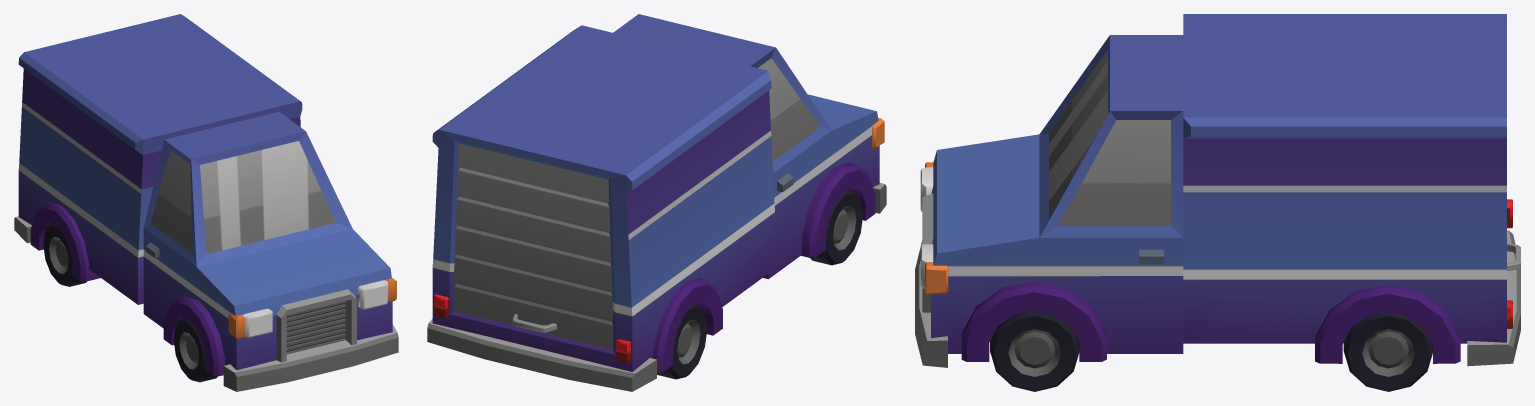
The model's file is PostCar_4.fbx.
The picture shows the model from 3 angles, left to right: view 1: azimuth 30°, elevation 25°; view 2: azimuth 150°, elevation 25°; view 3: azimuth 270°, elevation 25°; orthographic projection. The views are drawn at different scales.
Visible parts, largest first — view 1: PostCar_4, Wheel_FR, Wheel_BR; view 2: PostCar_4, Wheel_FR, Wheel_BR; view 3: PostCar_4, Wheel_FL, Wheel_BL.
Part boxes in pixels (box(x1,y1,x2,y2)): PostCar_4: box(14, 14, 398, 391); Wheel_FR: box(173, 318, 217, 382); Wheel_BR: box(43, 224, 86, 286); PostCar_4: box(427, 14, 886, 391); Wheel_FR: box(810, 188, 863, 265); Wheel_BR: box(657, 304, 707, 379); PostCar_4: box(915, 14, 1520, 367); Wheel_FL: box(990, 310, 1079, 391); Wheel_BL: box(1343, 312, 1432, 391).
Bounding box in the file's own units: 118 × 124 × 251.
